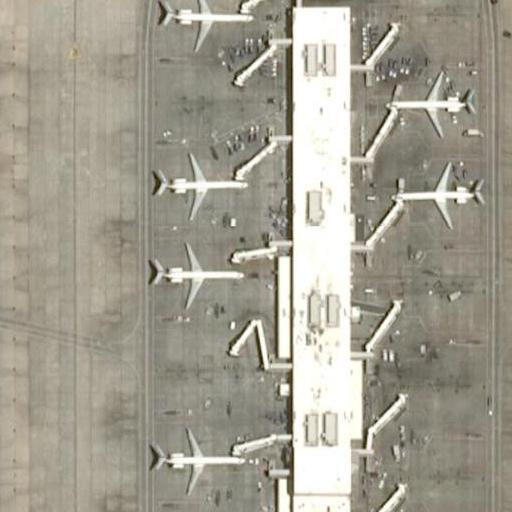Aircraft: (388, 152, 486, 231), (143, 234, 247, 307), (145, 424, 251, 494), (144, 146, 250, 213), (145, 0, 255, 52), (386, 68, 473, 132)
